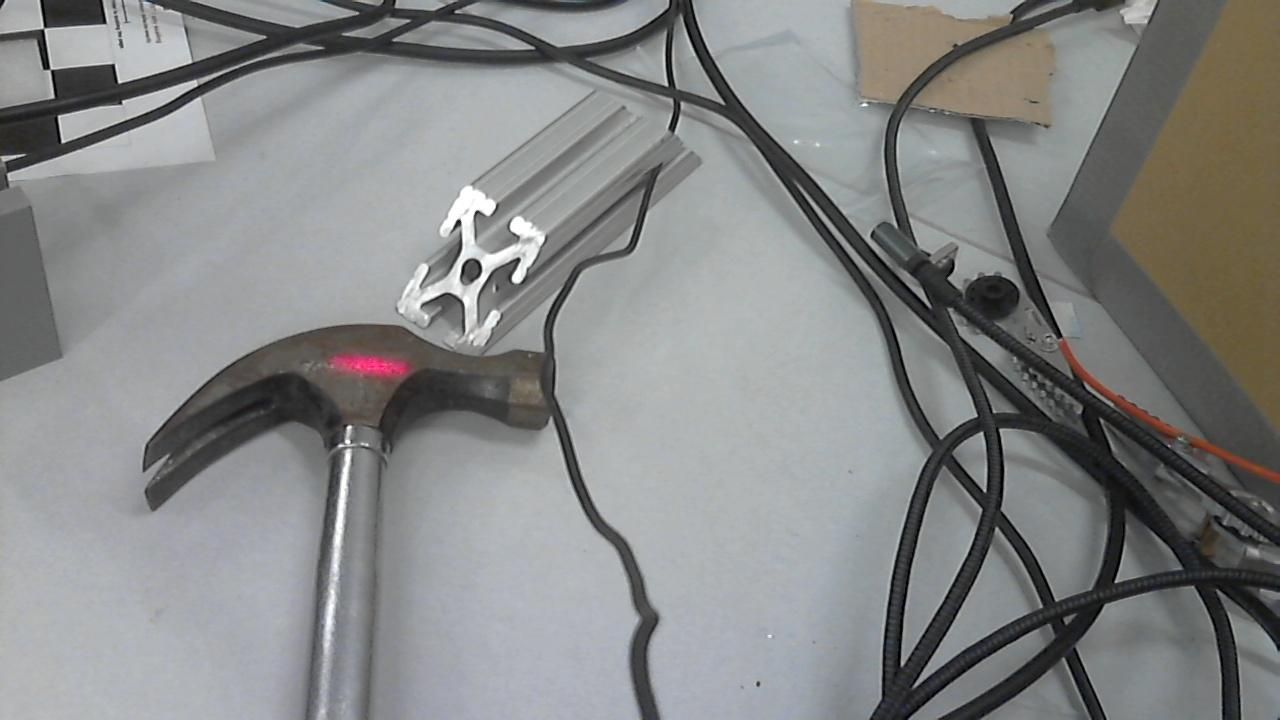Object claw hammer -Material metal - Pdfname 2LKzx9zgCNVB: (306, 346, 423, 386)
